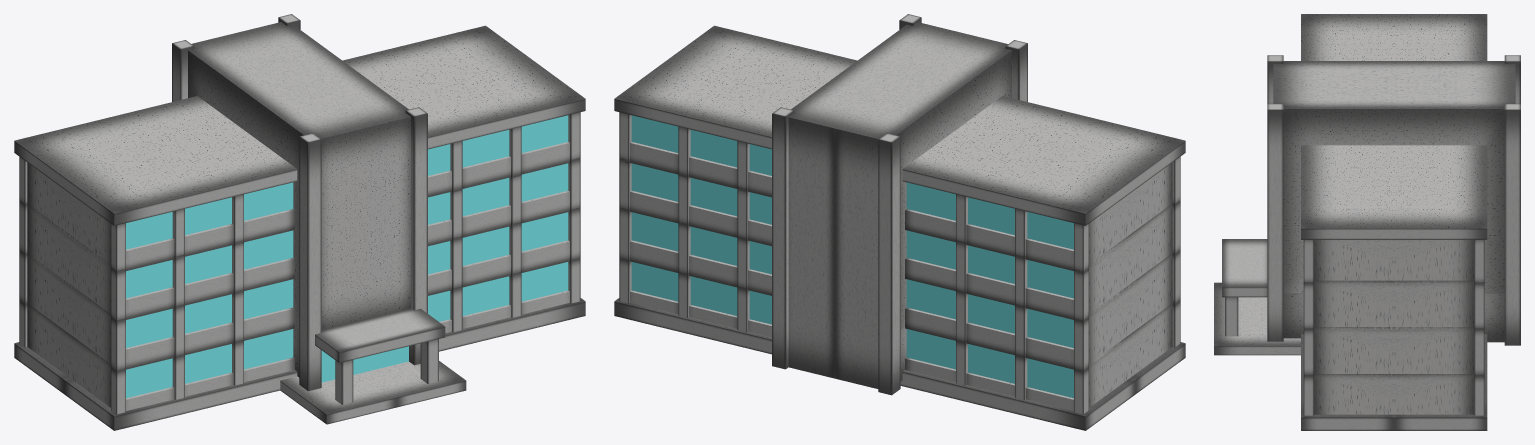
The model's file is school.glb.
3 renders of one model, left to right at view 1: azimuth 30°, elevation 25°; view 2: azimuth 150°, elevation 25°; view 3: azimuth 270°, elevation 25°, orthographic. The views are drawn at different scales.
Parts seen in each view (by area): view 1: 屋根, 中央, 学校２階, 学校３階, 学校４階, 学校基本, 中央柱, 下土台, 門, 玄関土台; view 2: 中央, 屋根, 学校２階, 学校３階, 学校４階, 学校基本, 中央柱, 下土台; view 3: 中央, 屋根, 学校３階, 中央柱, 学校２階, 学校４階, 学校基本, 下土台, 玄関土台, 門.
Boxes of the visible parts, x1=… form: 屋根: x1=14, y1=25, x2=585, y2=225; 中央: x1=188, y1=22, x2=410, y2=382; 学校２階: x1=19, y1=207, x2=580, y2=372; 学校３階: x1=19, y1=157, x2=580, y2=322; 学校４階: x1=19, y1=112, x2=580, y2=274; 学校基本: x1=19, y1=258, x2=580, y2=414; 中央柱: x1=172, y1=14, x2=427, y2=391; 下土台: x1=14, y1=298, x2=585, y2=430; 門: x1=315, y1=308, x2=445, y2=404; 玄関土台: x1=280, y1=361, x2=466, y2=424; 中央: x1=788, y1=22, x2=1011, y2=388; 屋根: x1=614, y1=25, x2=1185, y2=225; 学校２階: x1=619, y1=207, x2=1180, y2=371; 学校３階: x1=619, y1=157, x2=1180, y2=321; 学校４階: x1=619, y1=112, x2=1180, y2=274; 学校基本: x1=619, y1=259, x2=1180, y2=414; 中央柱: x1=772, y1=14, x2=1027, y2=395; 下土台: x1=614, y1=298, x2=1185, y2=430; 中央: x1=1273, y1=61, x2=1515, y2=342; 屋根: x1=1301, y1=14, x2=1487, y2=239; 学校３階: x1=1303, y1=280, x2=1484, y2=330; 中央柱: x1=1267, y1=55, x2=1520, y2=345; 学校２階: x1=1303, y1=327, x2=1484, y2=376; 学校４階: x1=1303, y1=240, x2=1484, y2=285; 学校基本: x1=1303, y1=374, x2=1484, y2=415; 下土台: x1=1301, y1=334, x2=1487, y2=430; 玄関土台: x1=1214, y1=282, x2=1300, y2=355; 門: x1=1222, y1=239, x2=1267, y2=336.
Size of the model in its own units: 2.32 by 1.22 by 1.4.
Materials: 2 (1 with a texture image).
